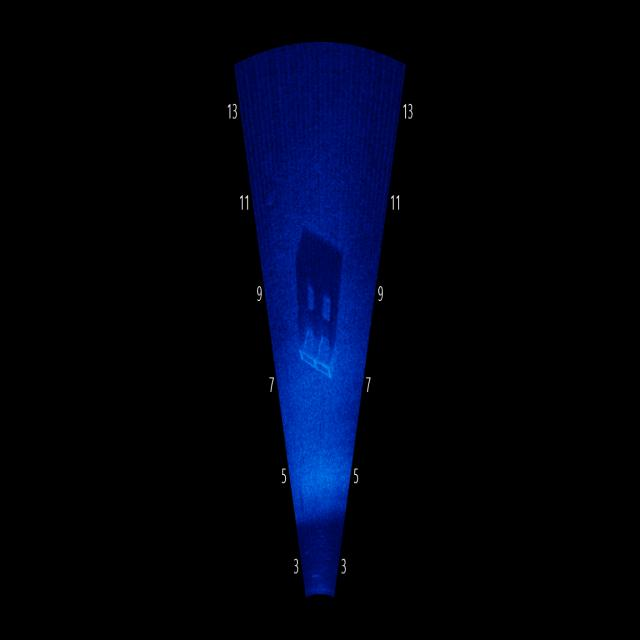square: (289, 216, 346, 386)
